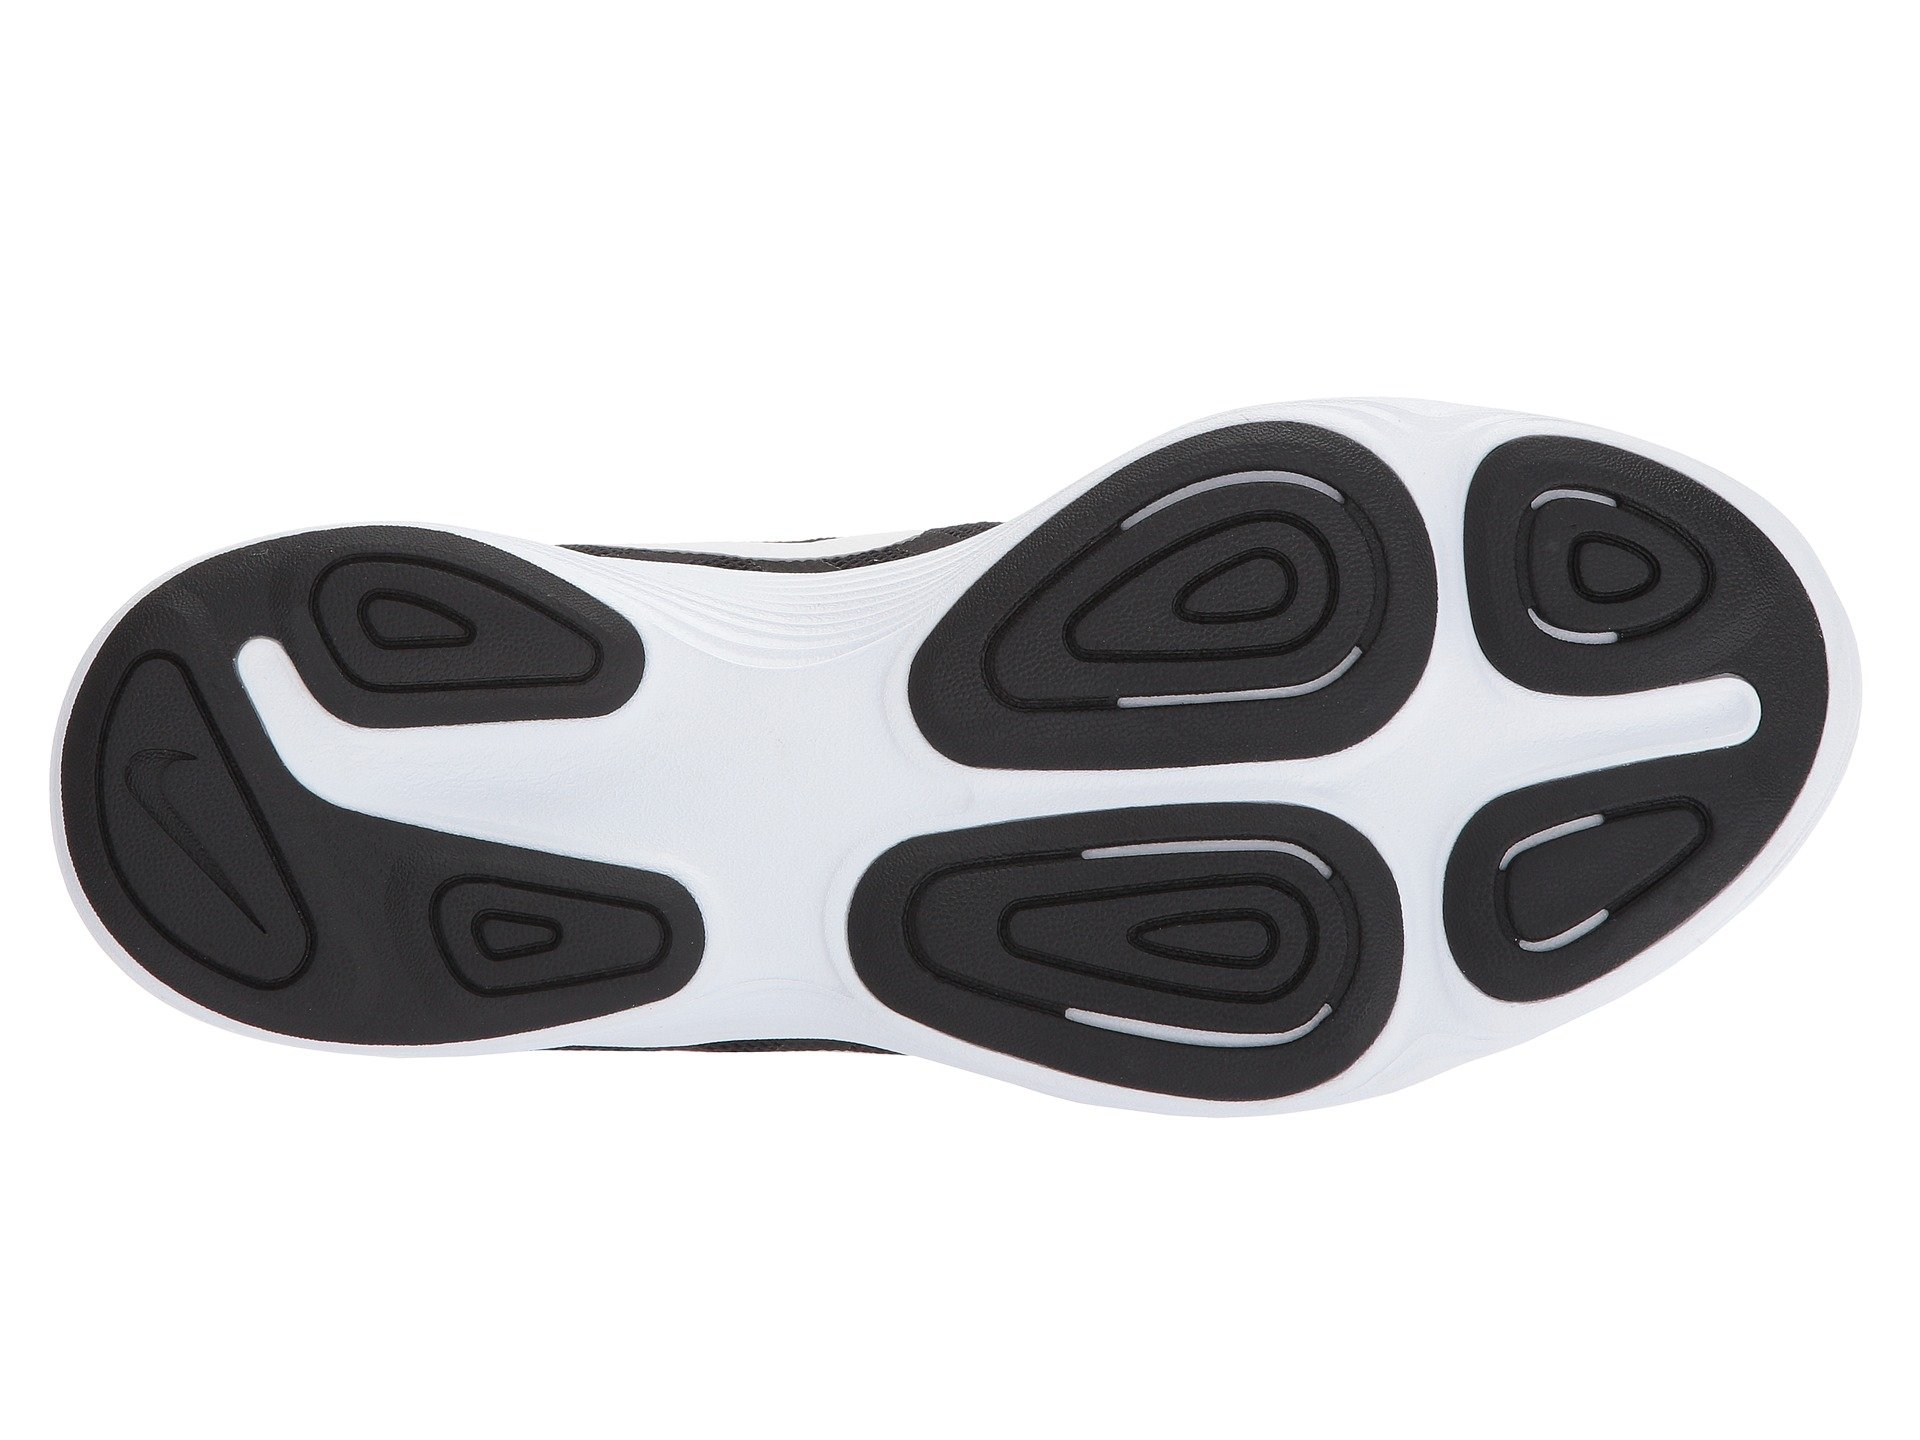chevron: (17, 234, 289, 570)
circle: (1453, 35, 1763, 316)
line: (682, 185, 806, 309)
triangle: (260, 123, 624, 343), (1116, 67, 1355, 309), (369, 424, 655, 611)
